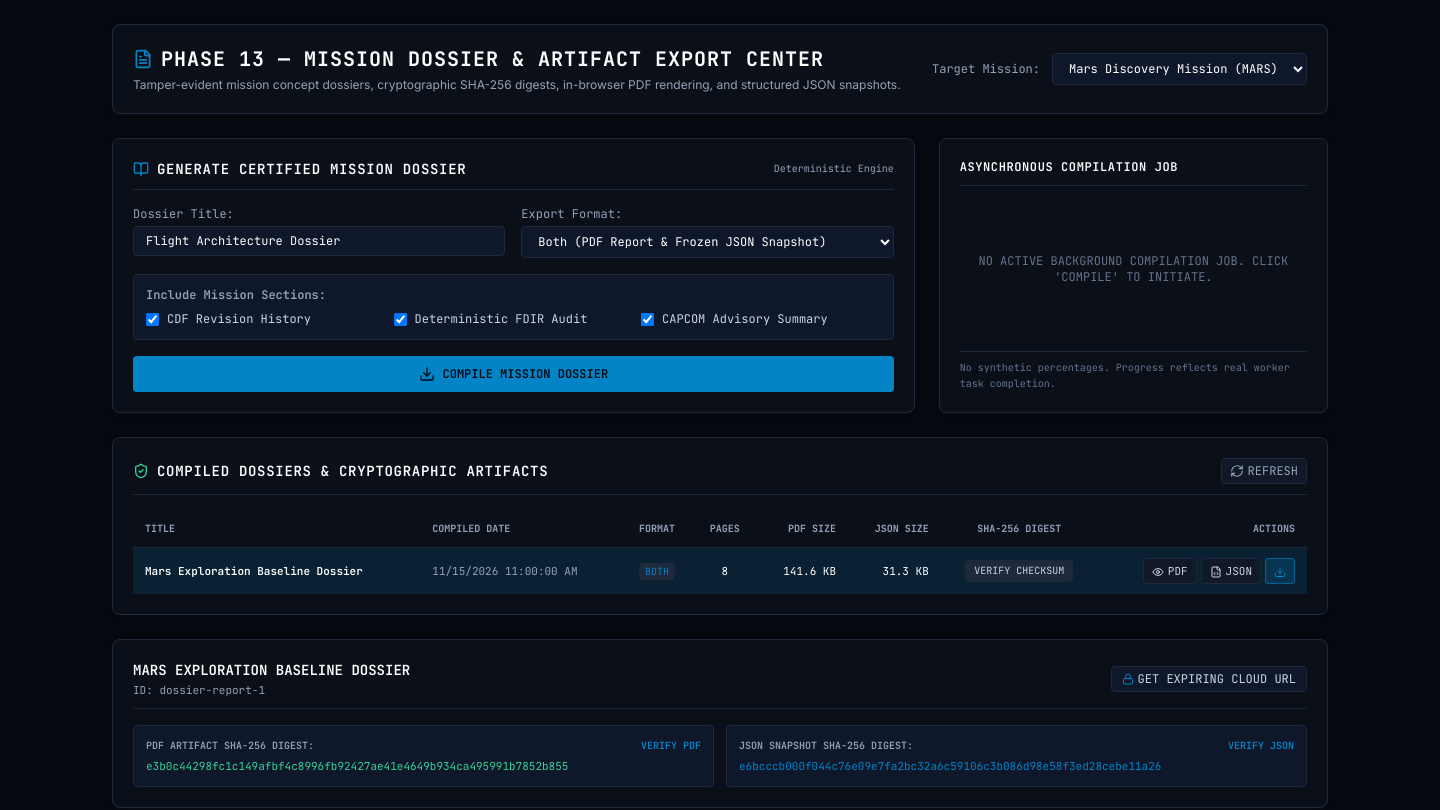
it: Phase 13 — Mission Dossier & Artifact Export Center › displays cryptographic SHA-256 hashes and expiring cloud download link options
Expected: the text "PDF ARTIFACT SHA-256 DIGEST:" is shown, [146,738,314,754]
Expected: the text "e3b0c44298fc1c149afbf4c8996fb92427ae41e4649b934ca495991b7852b855" is shown, [146,759,568,773]
Click the button "GET EXPIRING CLOUD URL": click(1209, 679) [1111,666,1307,692]
(page scrolled)
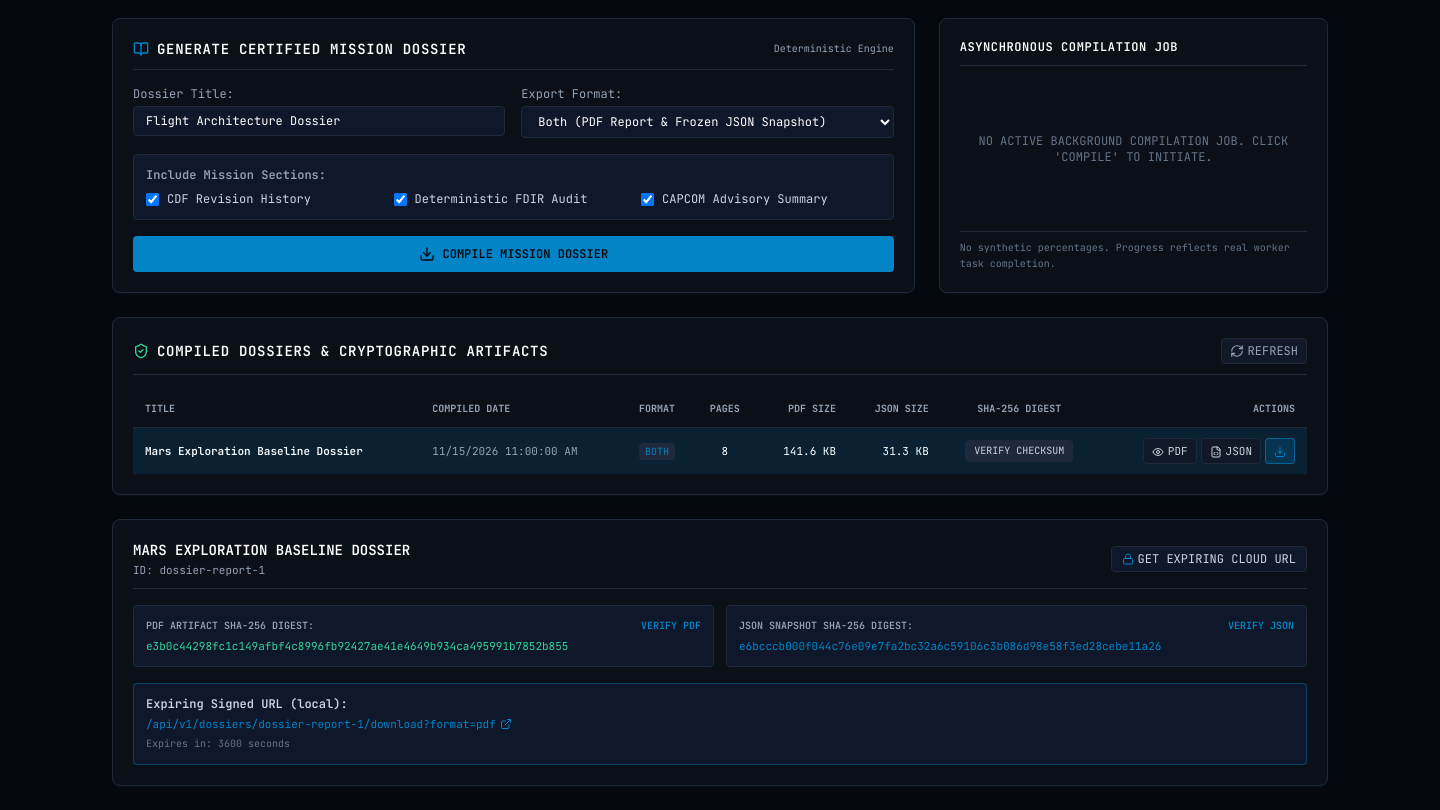
Now the text "Expiring Signed URL (local):" is shown, box [146,696,348,712]
